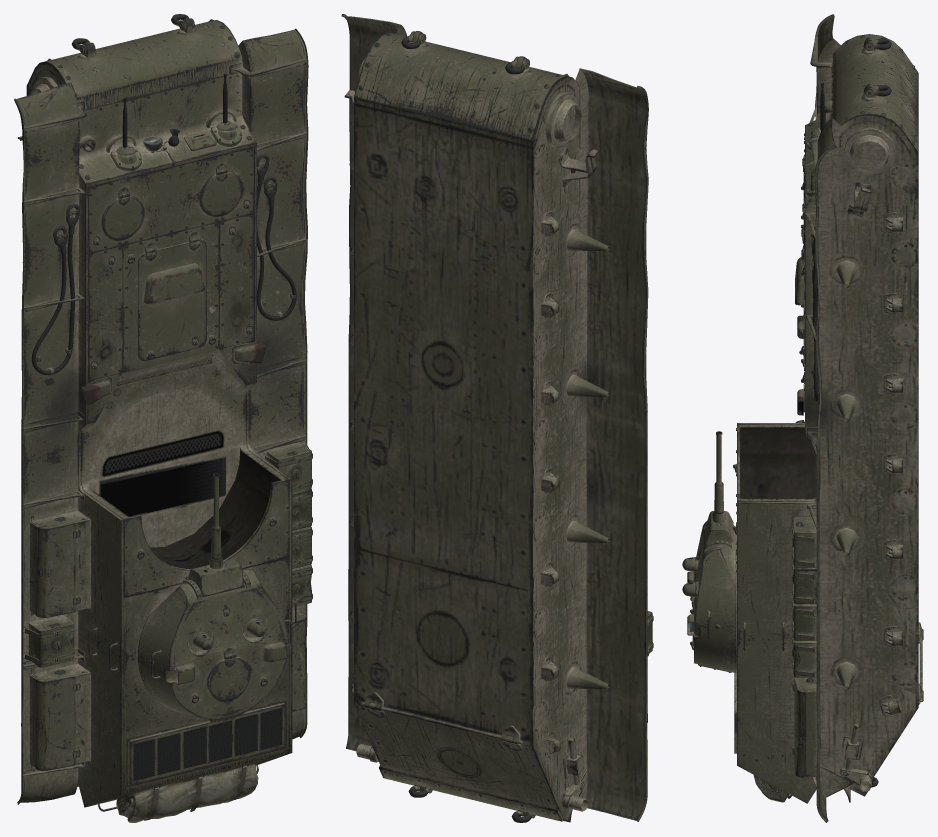
Rendered from Hull.glb.
The picture shows the model from 3 angles, left to right: view 1: azimuth 30°, elevation 25°; view 2: azimuth 150°, elevation 25°; view 3: azimuth 270°, elevation 25°; orthographic projection. The views are drawn at different scales.
Parts seen in each view (by area): view 1: set_0_group_0, set_0_group_1; view 2: set_0_group_0; view 3: set_0_group_0.
Boxes of the visible parts, bbox=[...] form: set_0_group_0: bbox=[14, 14, 312, 811]; set_0_group_1: bbox=[116, 763, 258, 822]; set_0_group_0: bbox=[341, 14, 653, 822]; set_0_group_0: bbox=[682, 14, 923, 822].
Size of the model in its own units: 3.76 by 9.38 by 2.87.
2 materials, 2 textured.
